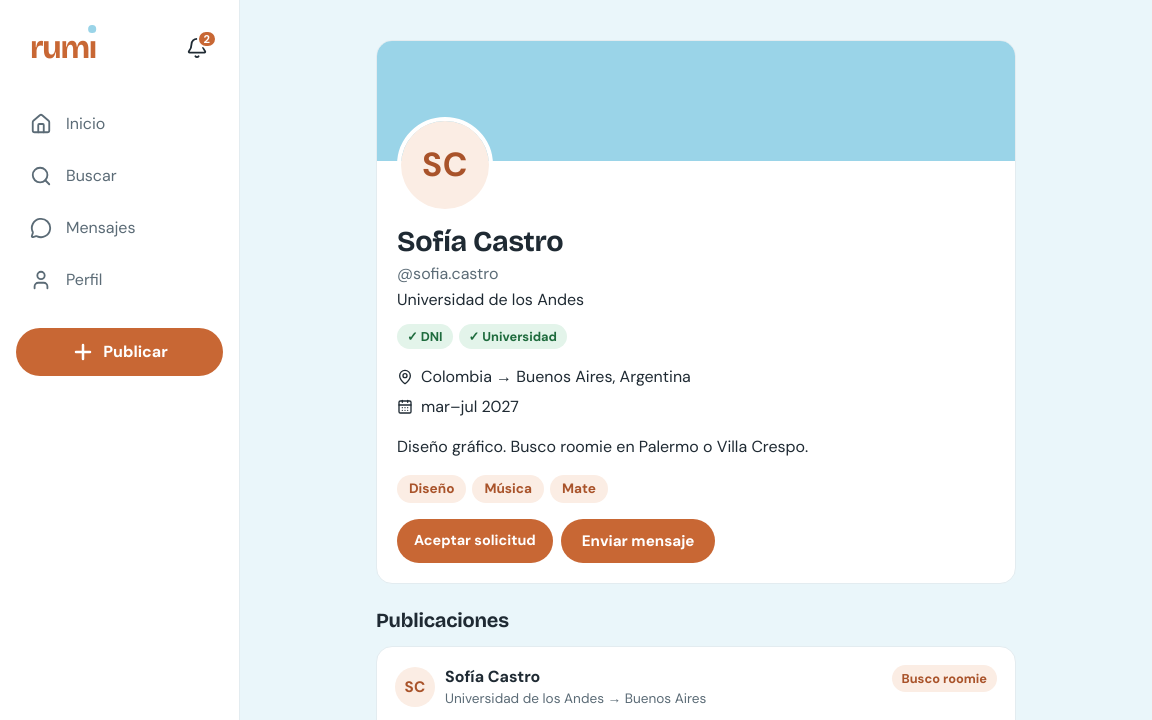
Scenario: no lista una conversación abierta sin mensajes
The image size is (1152, 720).
Click the button "Enviar mensaje".
click(638, 541)  # box [561,519,716,563]
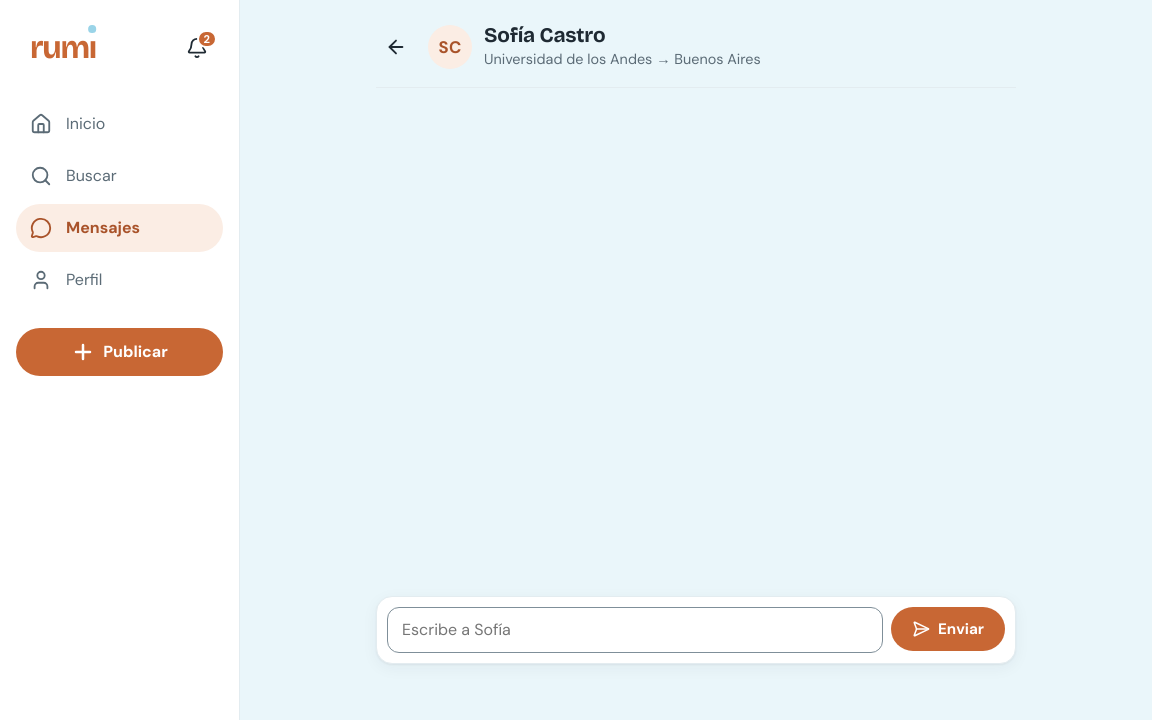
Click the link named "Volver".
click(396, 47)  # box [385,36,407,58]
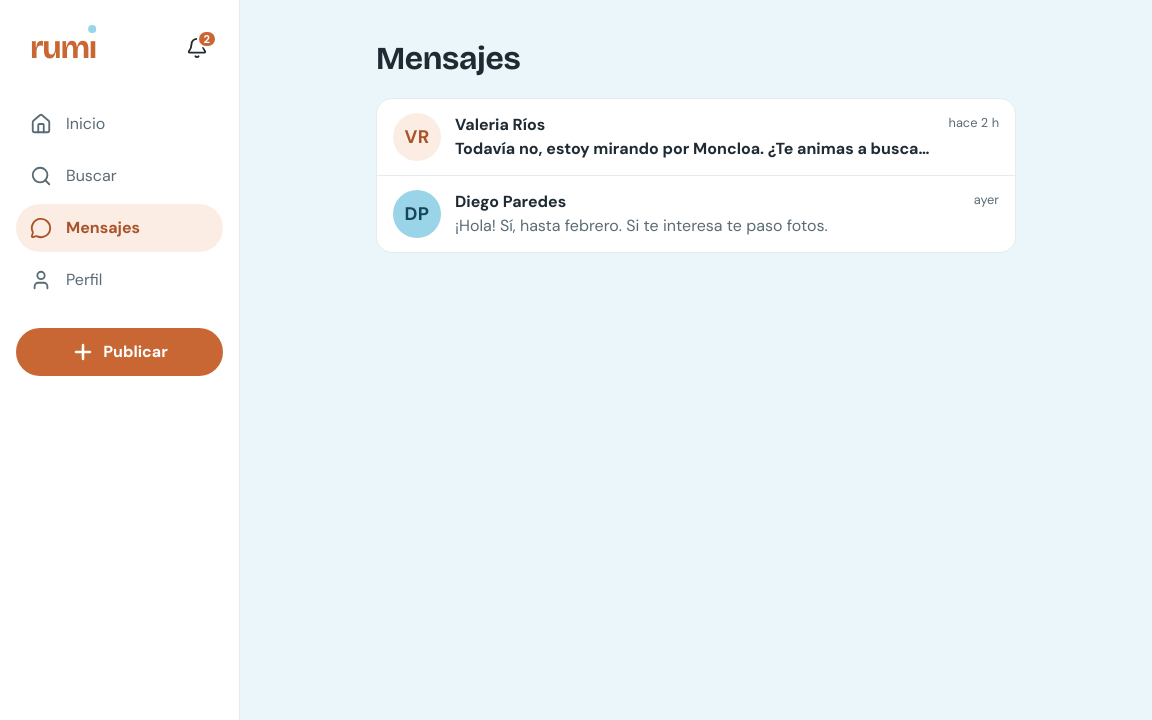
Expected: the link "Sofía Castro" is gone
